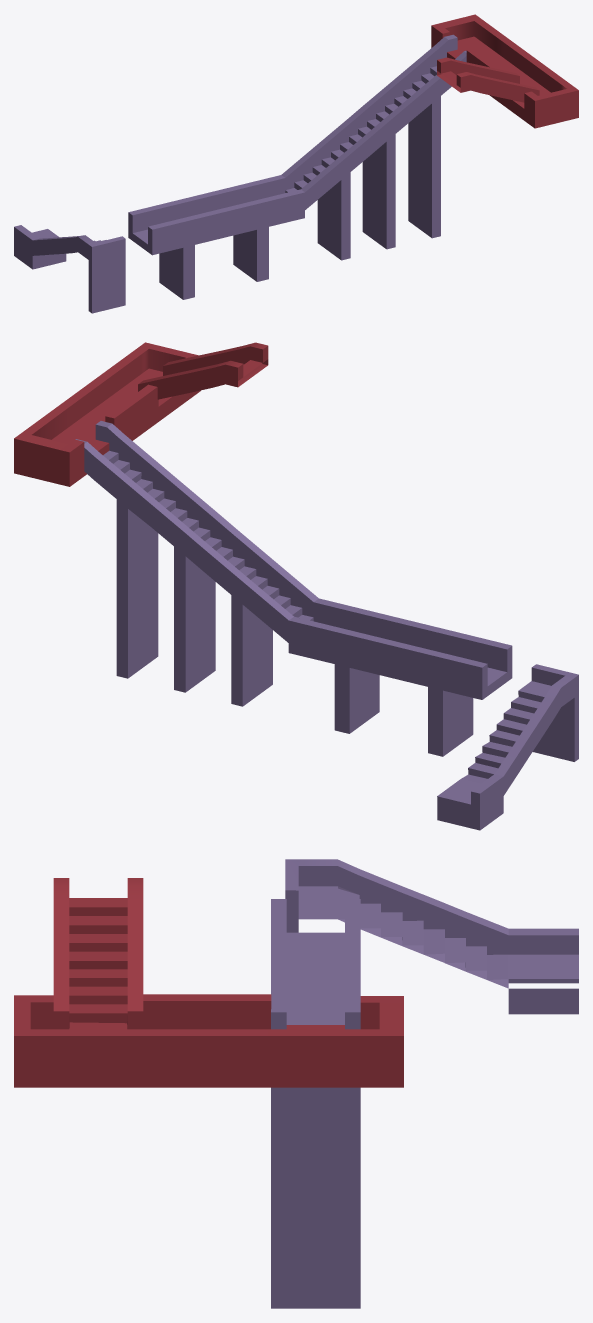
The model's file is external_stairs.fbx.
3 renders of one model, top to bottom at view 1: azimuth 30°, elevation 25°; view 2: azimuth 150°, elevation 25°; view 3: azimuth 270°, elevation 25°, orthographic. The views are drawn at different scales.
Parts seen in each view (by area): view 1: Stairs_Long, balcony_small, stairs_narrow, stairs_small1; view 2: Stairs_Long, balcony_small, stairs_narrow, stairs_small1; view 3: balcony_small, Stairs_Long, stairs_narrow, stairs_small1.
Part boxes in pixels (x1,y1,x2,y2): Stairs_Long: (128, 34, 466, 299); balcony_small: (431, 14, 578, 128); stairs_narrow: (14, 225, 125, 313); stairs_small1: (437, 57, 539, 102); Stairs_Long: (75, 421, 512, 756); balcony_small: (14, 342, 200, 486); stairs_narrow: (437, 664, 578, 830); stairs_small1: (138, 342, 268, 399); balcony_small: (14, 994, 403, 1087); Stairs_Long: (271, 899, 360, 1308); stairs_narrow: (285, 859, 578, 1014); stairs_small1: (53, 878, 143, 1029).
Bounding box in the file's own units: 1945 × 948 × 1221.
